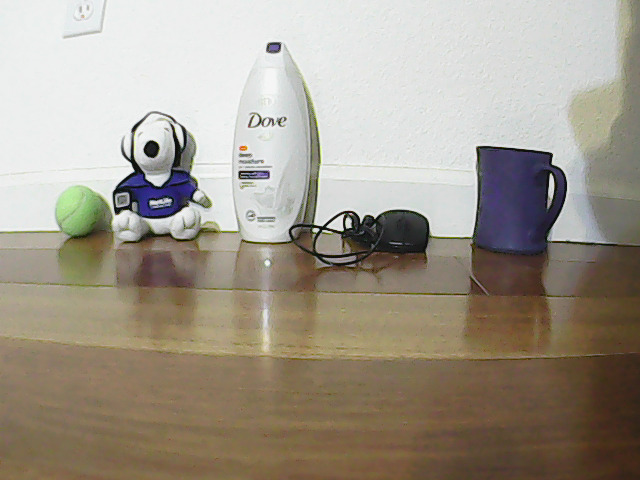ball: (53, 175, 106, 239)
mouse: (367, 204, 445, 262)
mug: (460, 136, 576, 260)
snoopy: (122, 103, 218, 241)
soap: (244, 47, 312, 244)
